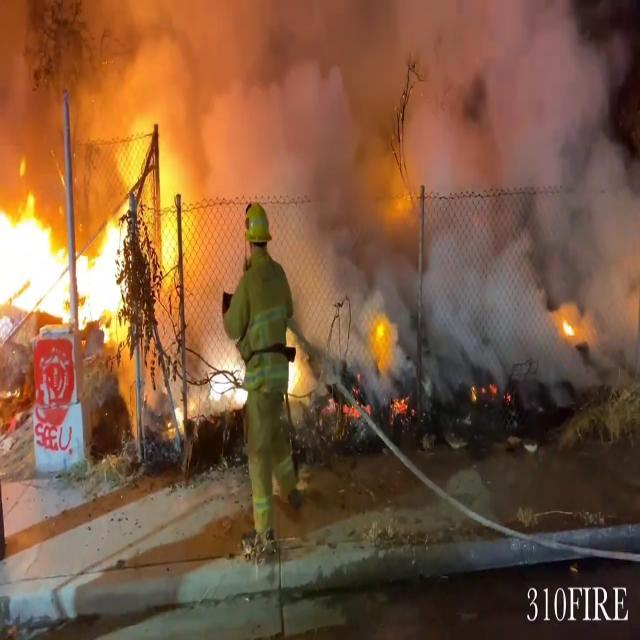Fire: (0, 141, 180, 340), (552, 300, 588, 342)
Smoke: (179, 0, 640, 373)
